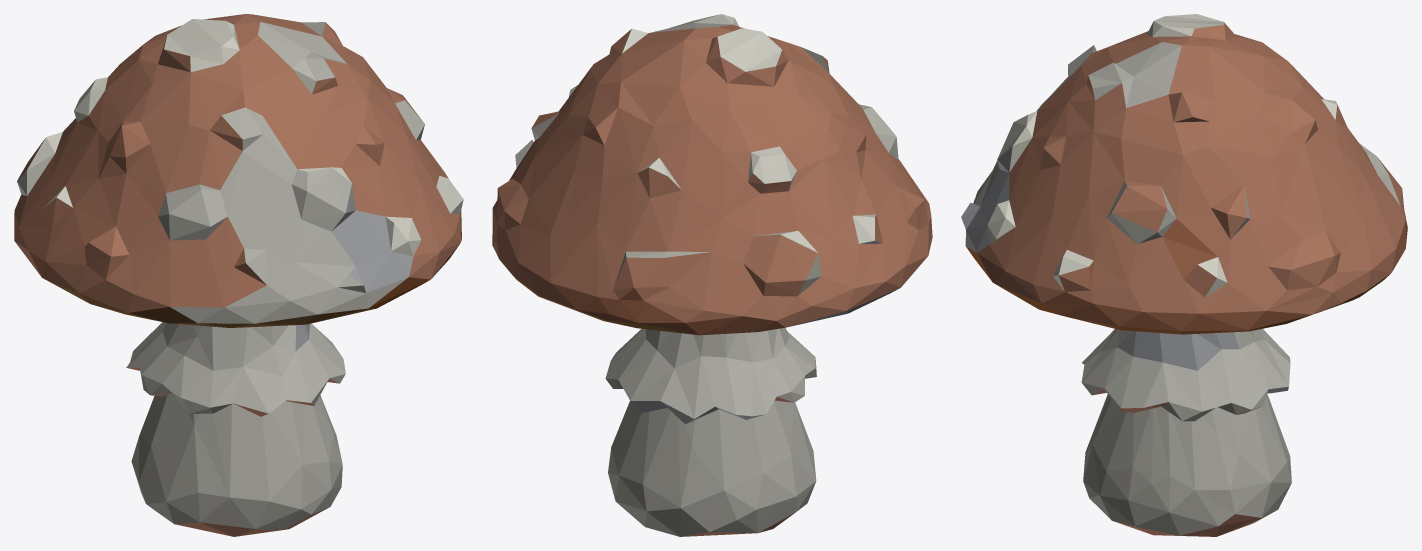
The model's file is prop_flugsvamp.glb.
3 views of the same model, side by side, from view 1: azimuth 30°, elevation 25°; view 2: azimuth 150°, elevation 25°; view 3: azimuth 270°, elevation 25° (orthographic).
Parts seen in each view (by area): view 1: PropFlugsvampBody; view 2: PropFlugsvampBody; view 3: PropFlugsvampBody.
Part boxes in pixels (x1,y1,x2,y2): PropFlugsvampBody: (14, 14, 463, 536); PropFlugsvampBody: (492, 14, 932, 536); PropFlugsvampBody: (961, 14, 1407, 536).
Bounding box in the file's own units: 0.8419 × 1 × 0.8512.
